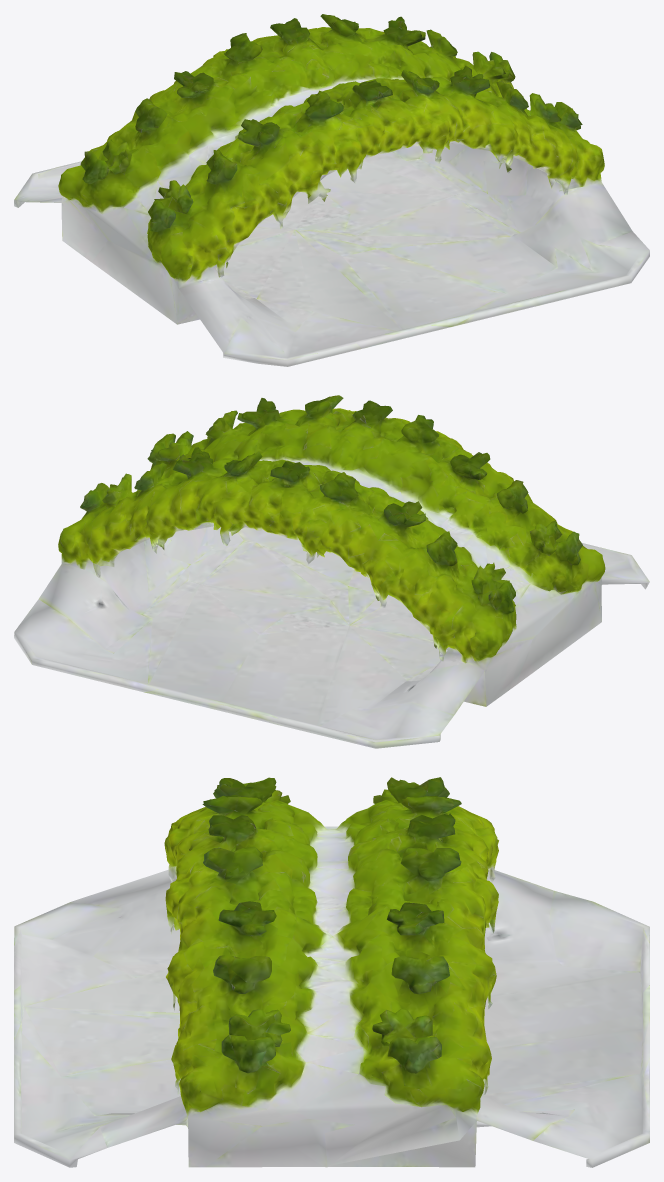
Rendered from prop-ecoduct.glb.
The picture shows the model from 3 angles, top to bottom: view 1: azimuth 30°, elevation 25°; view 2: azimuth 150°, elevation 25°; view 3: azimuth 270°, elevation 25°; orthographic projection. The views are drawn at different scales.
Size of the model in its own units: 1.9 by 0.7301 by 1.91.
1 material, 1 textured.
